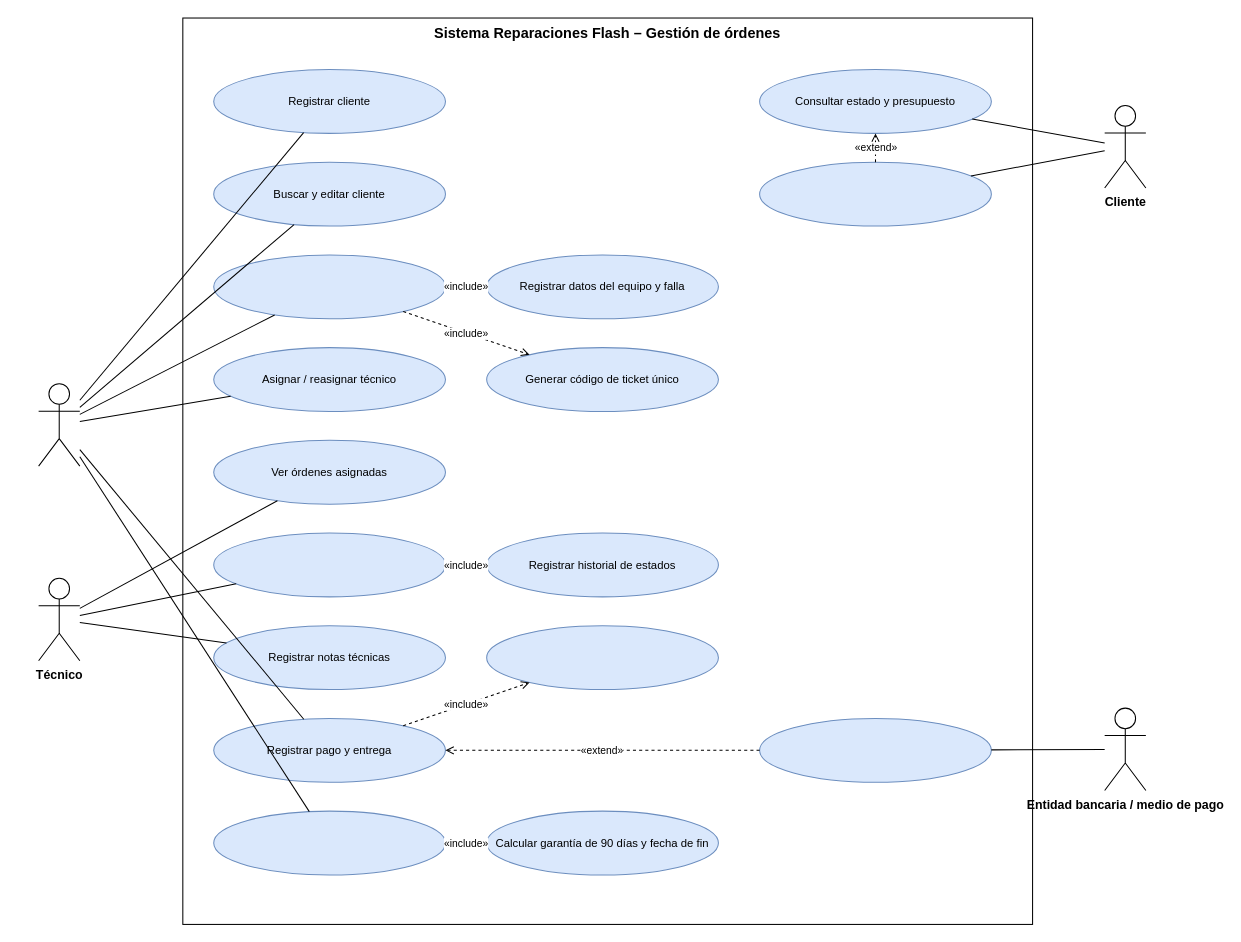
This 1241x942 diagram has some shape labels left out. Here are the shapes that lost their labels. From the top down, the centre of each, then its label:
pixel 875 193: Aceptar o rechazar presupuesto
pixel 329 286: Abrir orden de trabajo
pixel 59 424: Recepcionista
pixel 329 564: Cambiar estado de la orden
pixel 602 657: Generar recibo PDF
pixel 875 749: Procesar pago con tarjeta o transferencia
pixel 329 842: Cerrar orden
